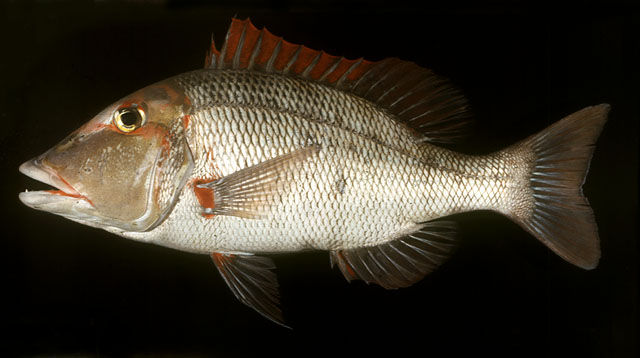fish: (19, 17, 611, 330)
